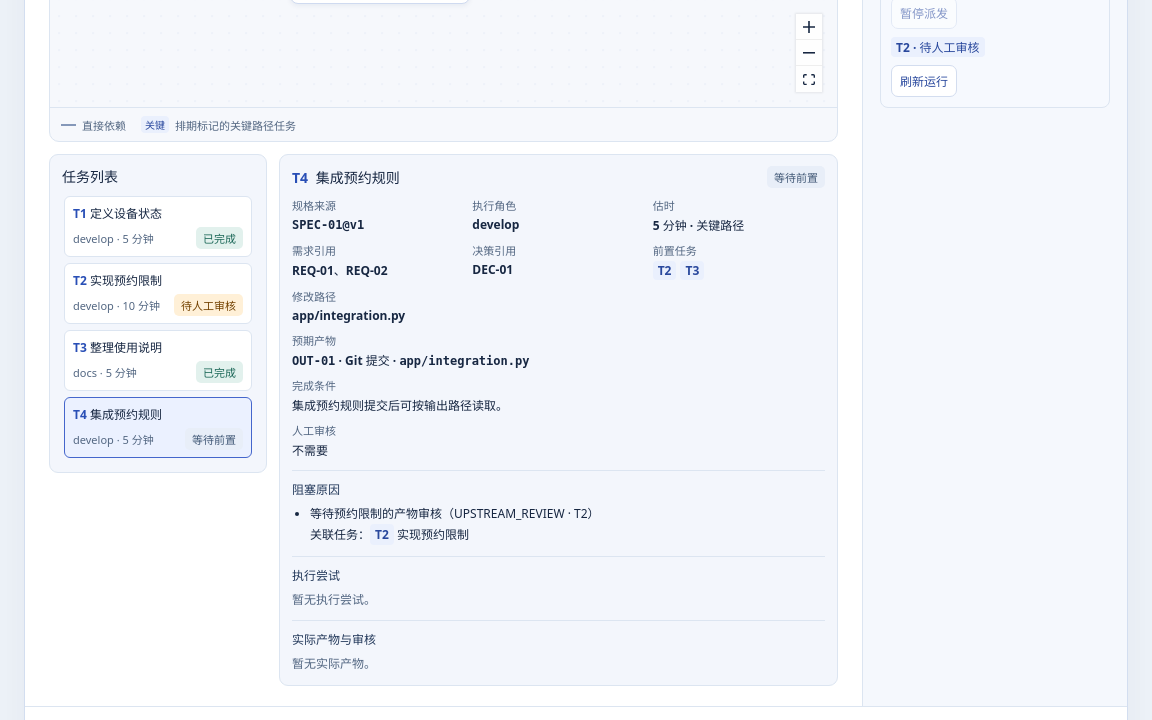
Test case: 自动模式不显示单步，手动刷新和重载恢复当前任务
Later steps or results of the test are not shown.
(page scrolled)
Click the button "T3 整理使用说明 docs · 5 分钟 已完成": {"x": 158, "y": 361} [64,330,252,391]
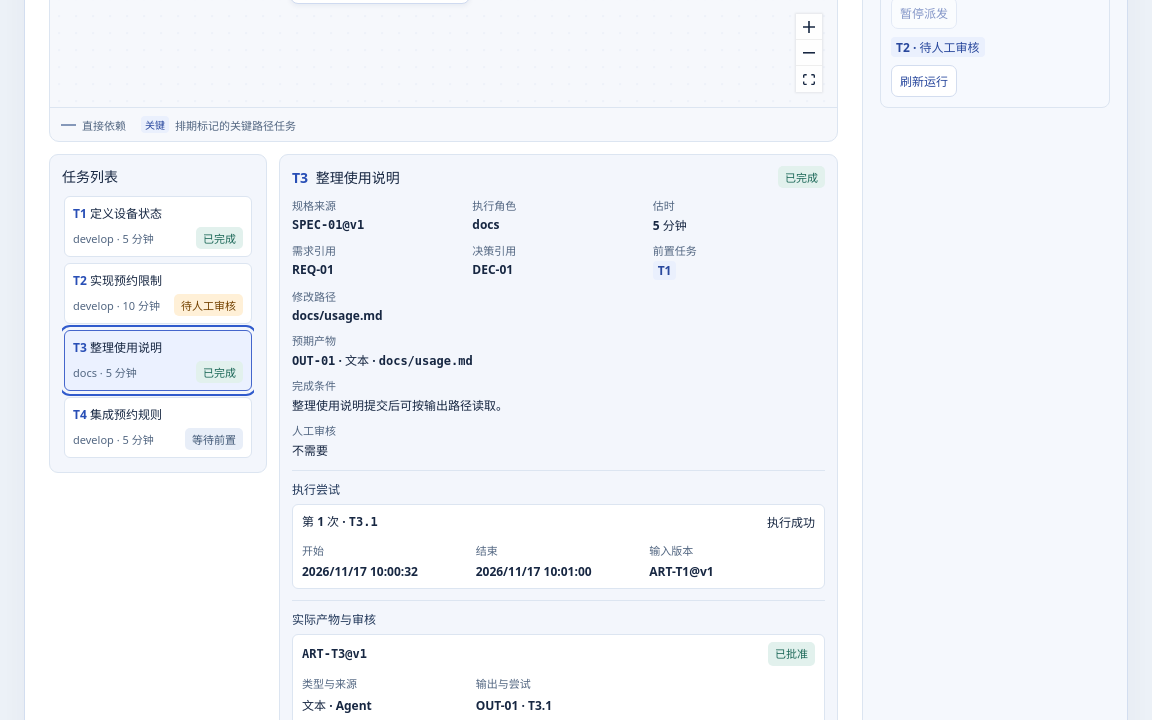
Click the button "刷新运行": {"x": 924, "y": 80} [891,64,957,96]
(page scrolled)
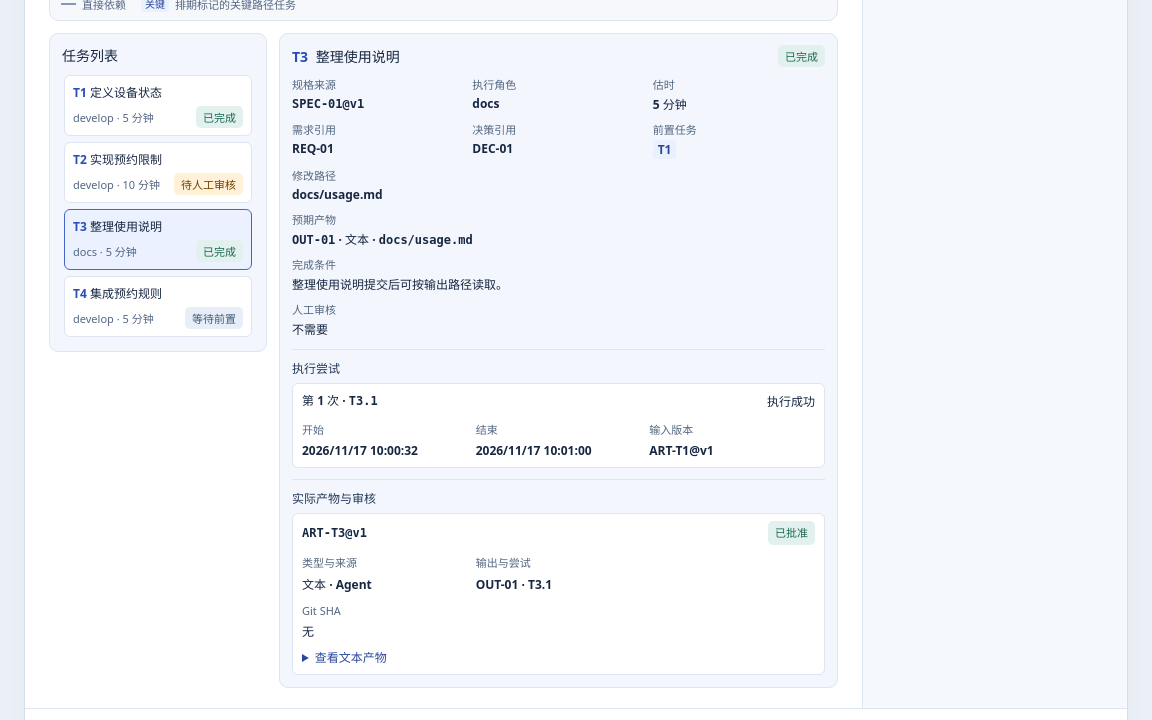
Now the element "T3 整理使用说明" is shown, box [279,33,838,688]
